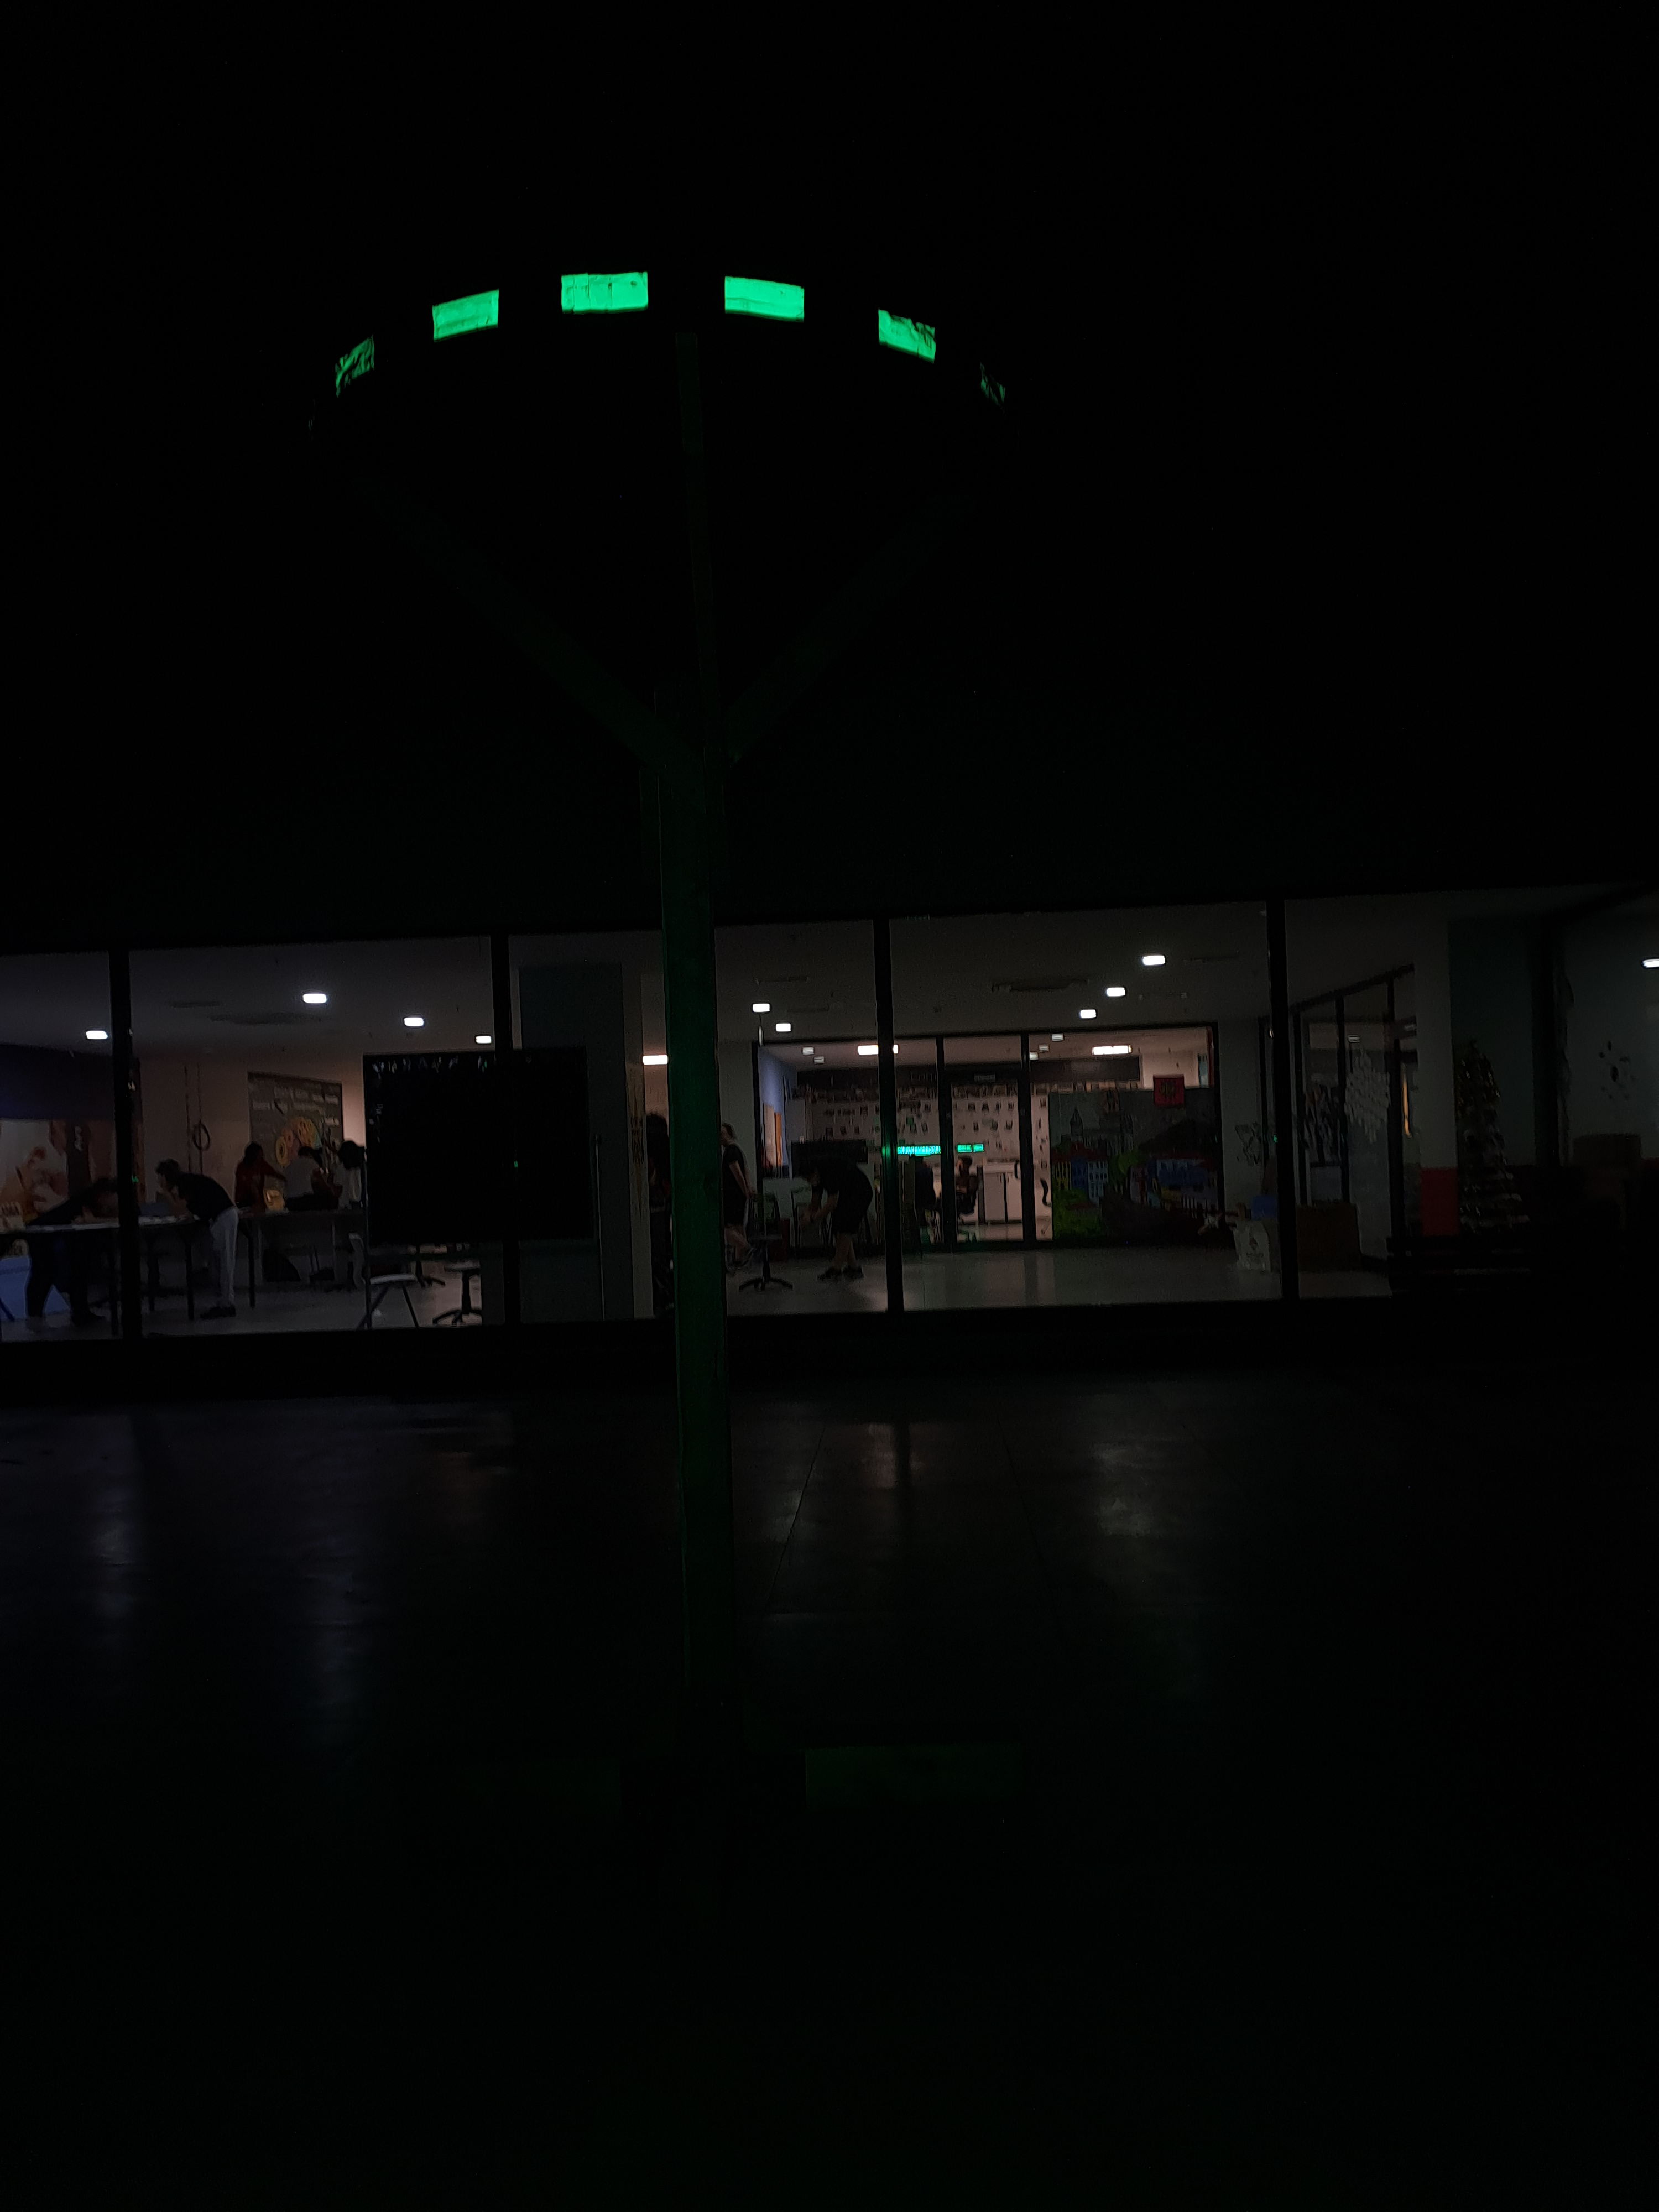hoop: (333, 268, 1012, 411)
